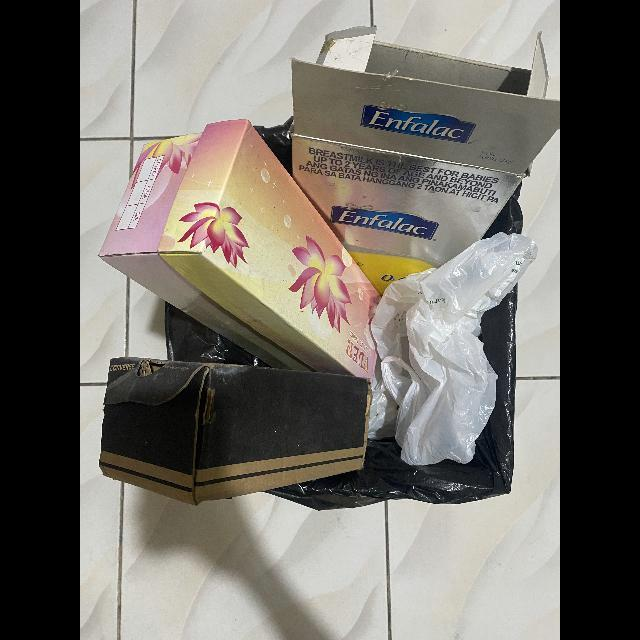cardboard: (97, 121, 383, 381), (291, 25, 560, 294), (96, 356, 370, 504)
